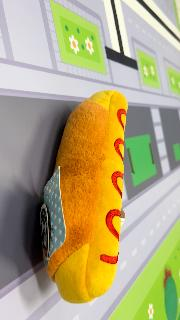hotdog: (40, 90, 128, 304)
